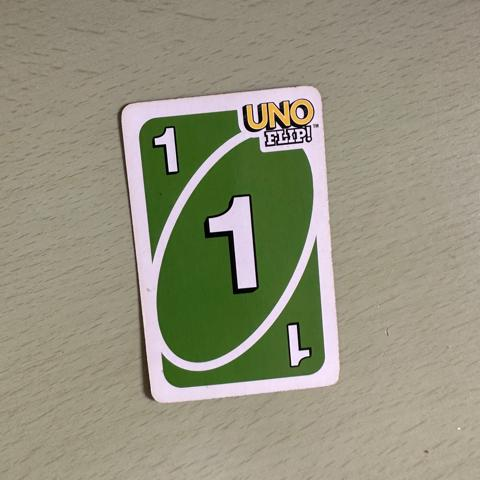lgreen-1: (134, 112, 206, 193)
